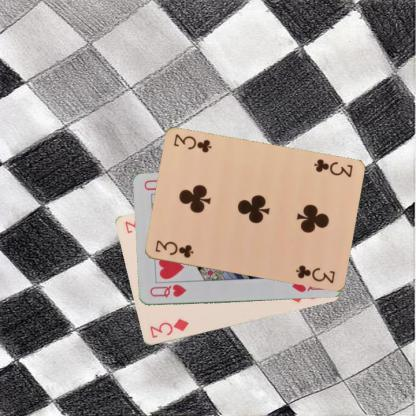3c: (310, 157, 354, 179), (152, 238, 194, 260)
3d: (147, 316, 190, 340)
Qh: (148, 282, 188, 299)
